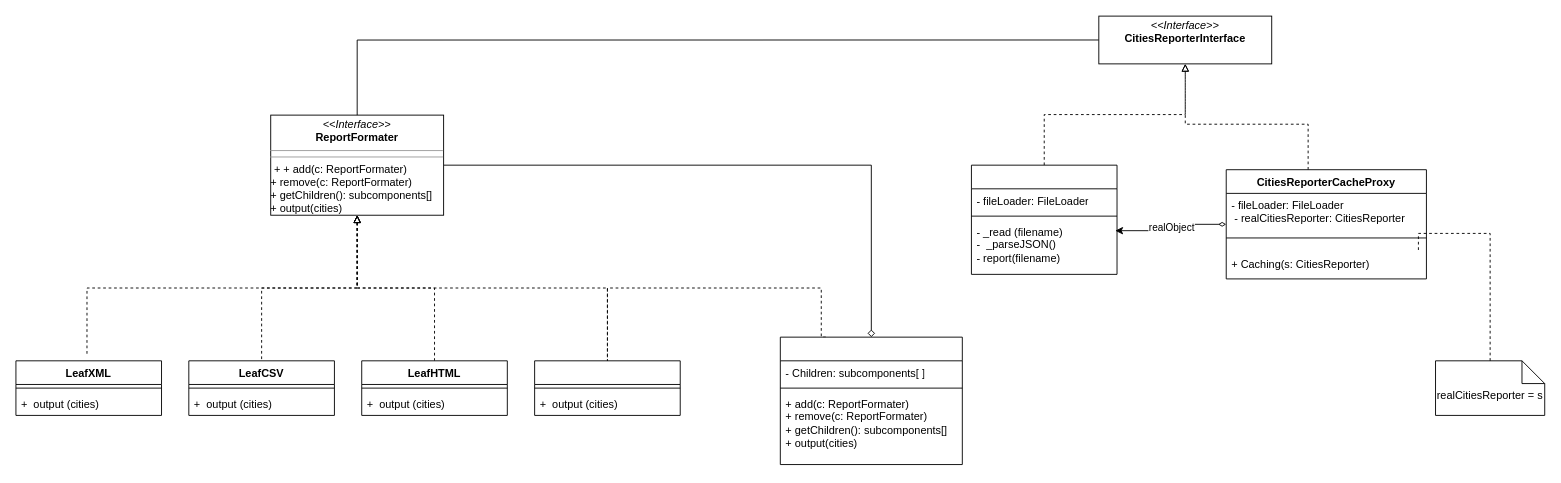
Image size: 1561x483. Some labels were removed from this diagram. The box of each missing label's shape, as (x1, y1, x2, y2) in pixels:
CitiesReporter: (971, 164, 1117, 274)
Composite ReportFormater: (779, 336, 962, 465)
JSON: (534, 360, 680, 415)
